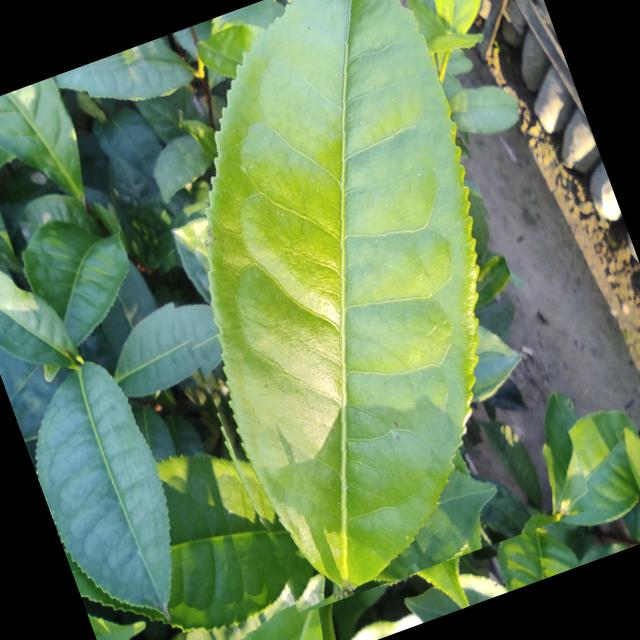Category D(7+ days, Not for Tea): (77, 0, 595, 622)
